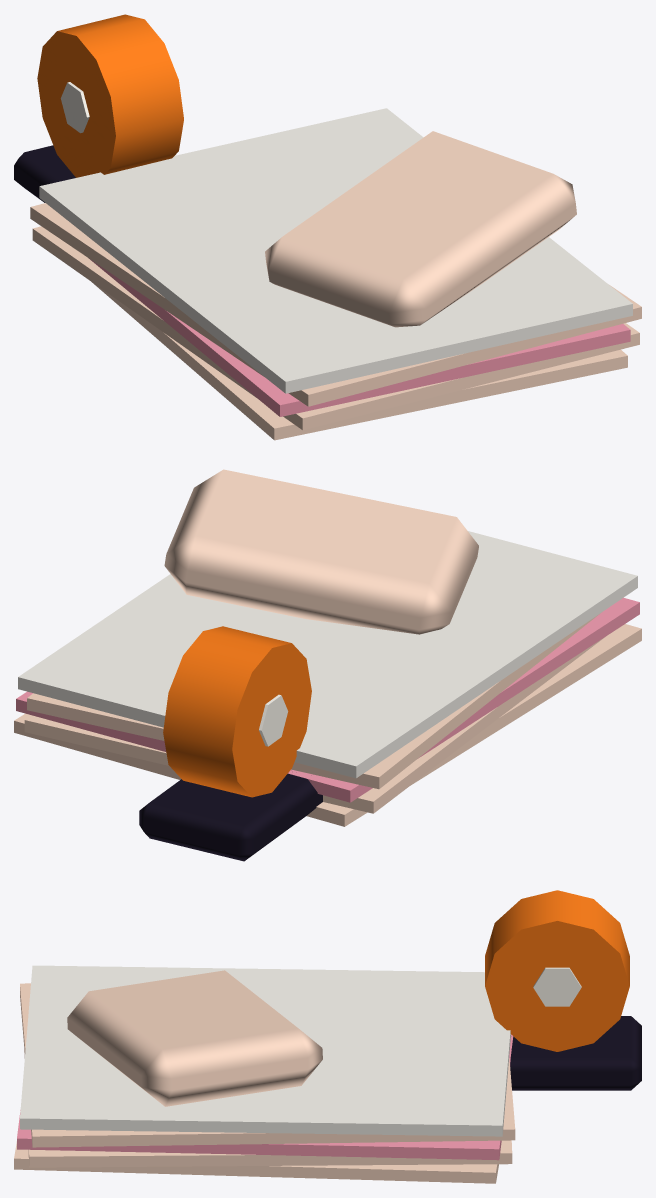
Rendered from station_processing_ausstattung_3_2.glb.
The picture shows the model from 3 angles, top to bottom: view 1: azimuth 30°, elevation 25°; view 2: azimuth 150°, elevation 25°; view 3: azimuth 270°, elevation 25°; orthographic projection. The views are drawn at different scales.
Visible parts, largest first — view 1: station_processing_ausstattung_3_2; view 2: station_processing_ausstattung_3_2; view 3: station_processing_ausstattung_3_2.
Boxes of the visible parts, x1,y1,x2,y2 form: station_processing_ausstattung_3_2: (14, 14, 641, 440); station_processing_ausstattung_3_2: (14, 469, 641, 861); station_processing_ausstattung_3_2: (14, 890, 641, 1183).
Bounding box in the file's own units: 0.3272 × 0.15 × 0.52.
